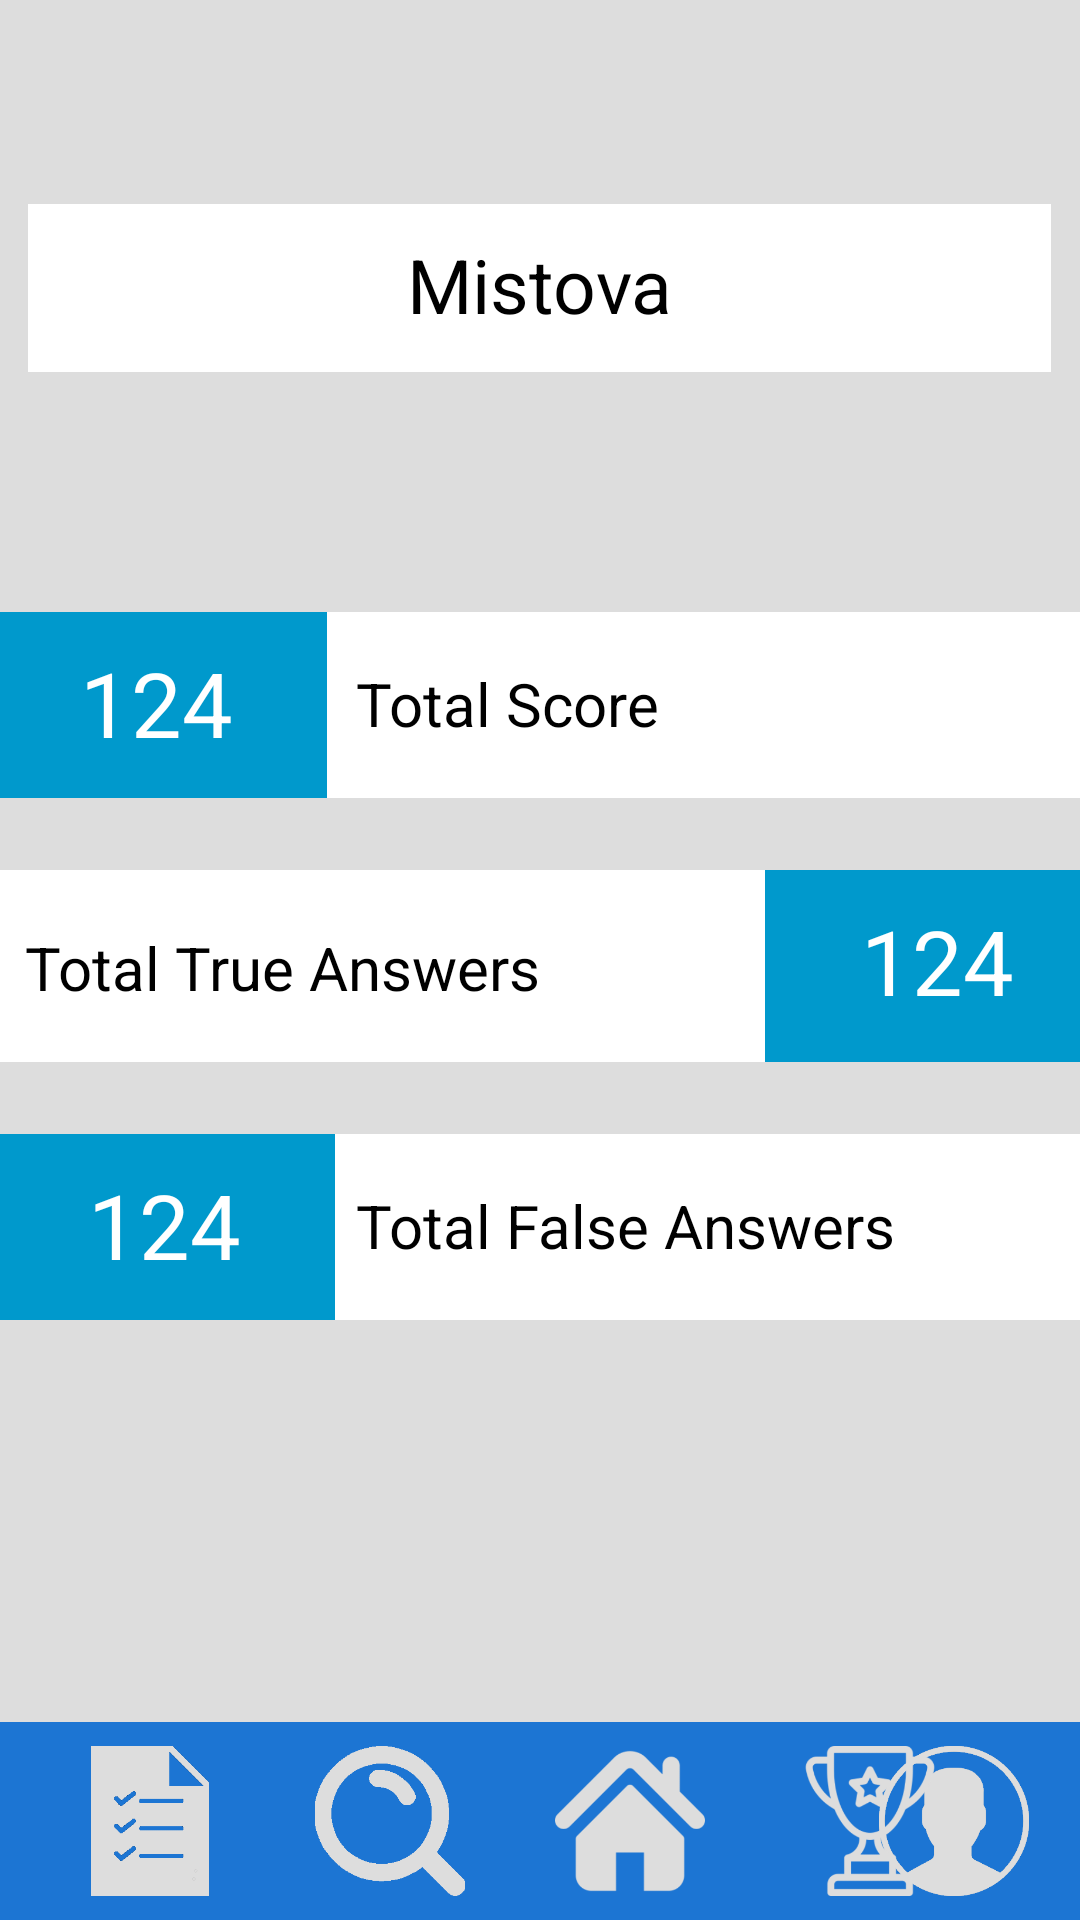

Locate icon controls on the screen. Image size 1080px x 1920px, boxes as {"left": x1, "top": y1, "right": x2, "bottom": y2}.
hom eico nsilhouette: {"left": 555, "top": 1751, "right": 705, "bottom": 1891}
list: {"left": 91, "top": 1746, "right": 209, "bottom": 1896}
magnifying glass finder: {"left": 315, "top": 1746, "right": 465, "bottom": 1896}
